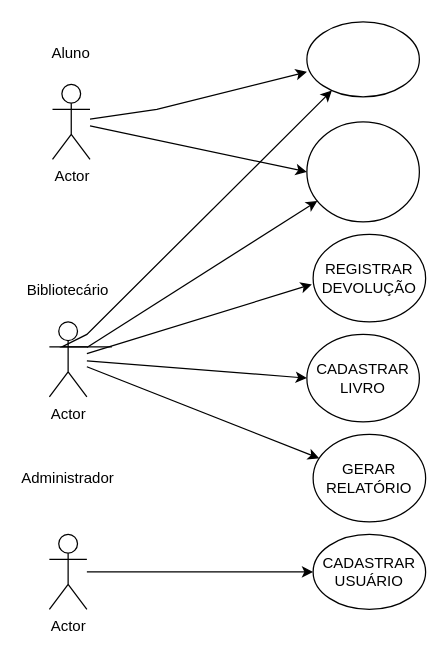
The diagram is 448 pixels wide and 658 high, and some of its shapes have lost their labels. The centre of each missing label's shape, as x and y in pixels:
"CONSULTAR LIVRO" belongs at point 362,59.
"REALIZAR EMPRÉSTIMO" belongs at point 362,171.
